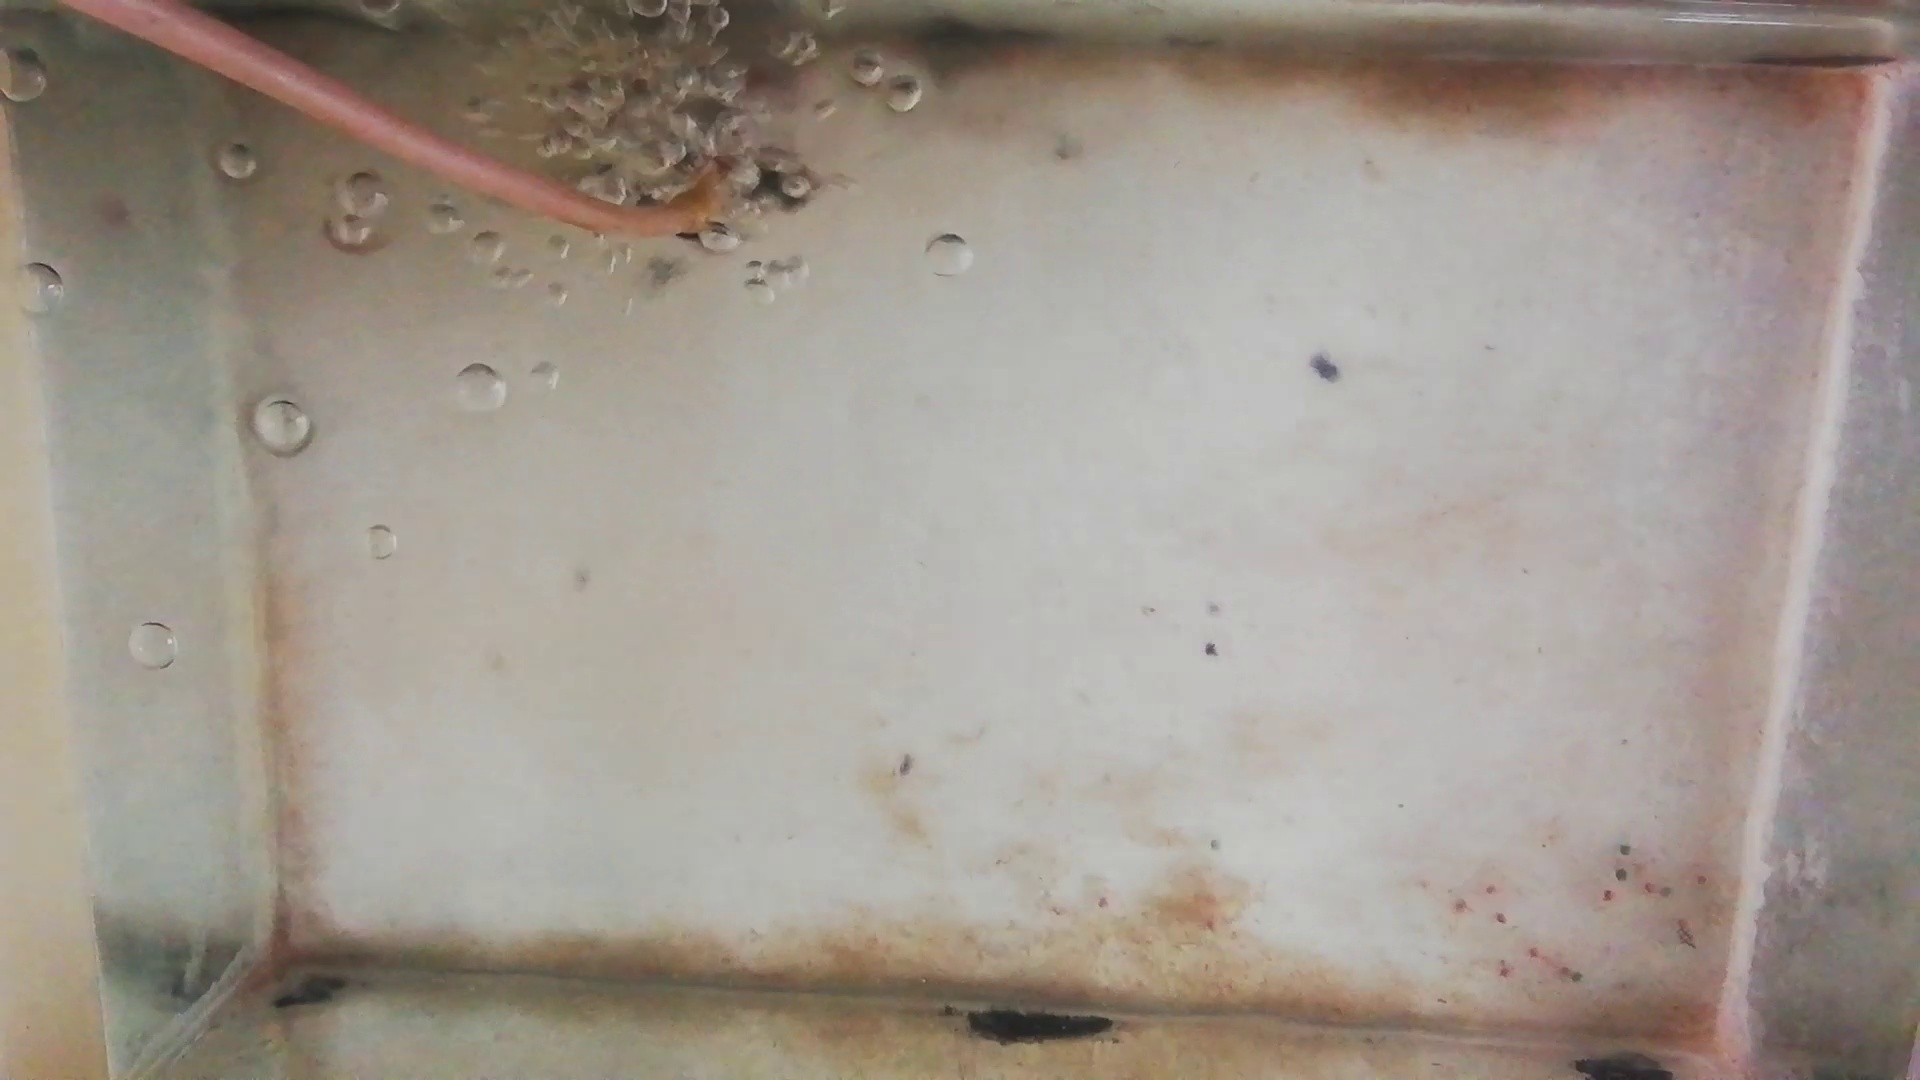fish: (556, 58, 814, 116), (568, 157, 820, 206)
